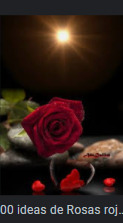RedRose: (19, 97, 92, 158)
